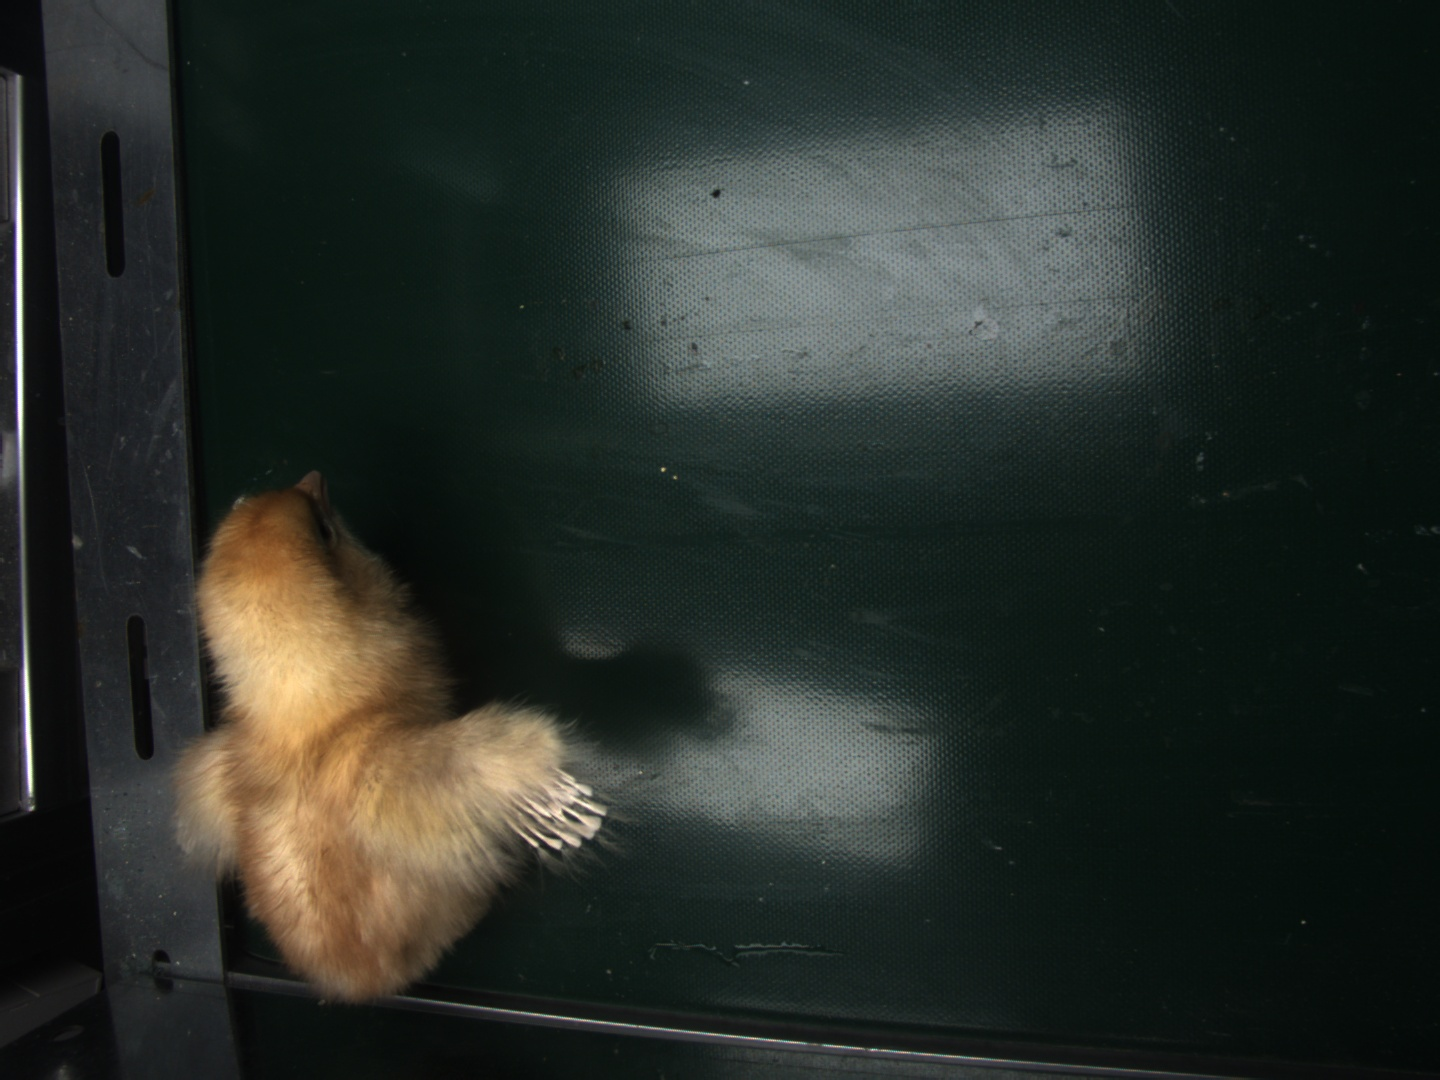female: (510, 770, 607, 851)
